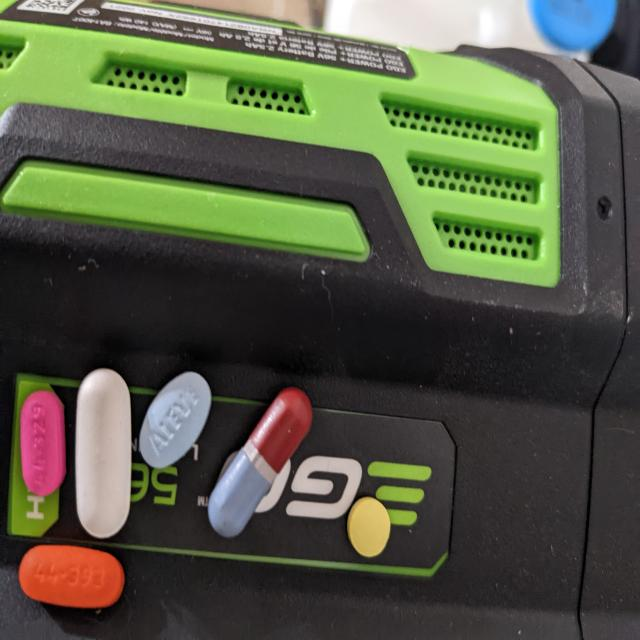non-organic waste: (206, 386, 314, 540), (74, 366, 134, 539), (139, 370, 212, 470), (18, 542, 125, 610), (18, 388, 67, 498), (346, 496, 391, 558)
